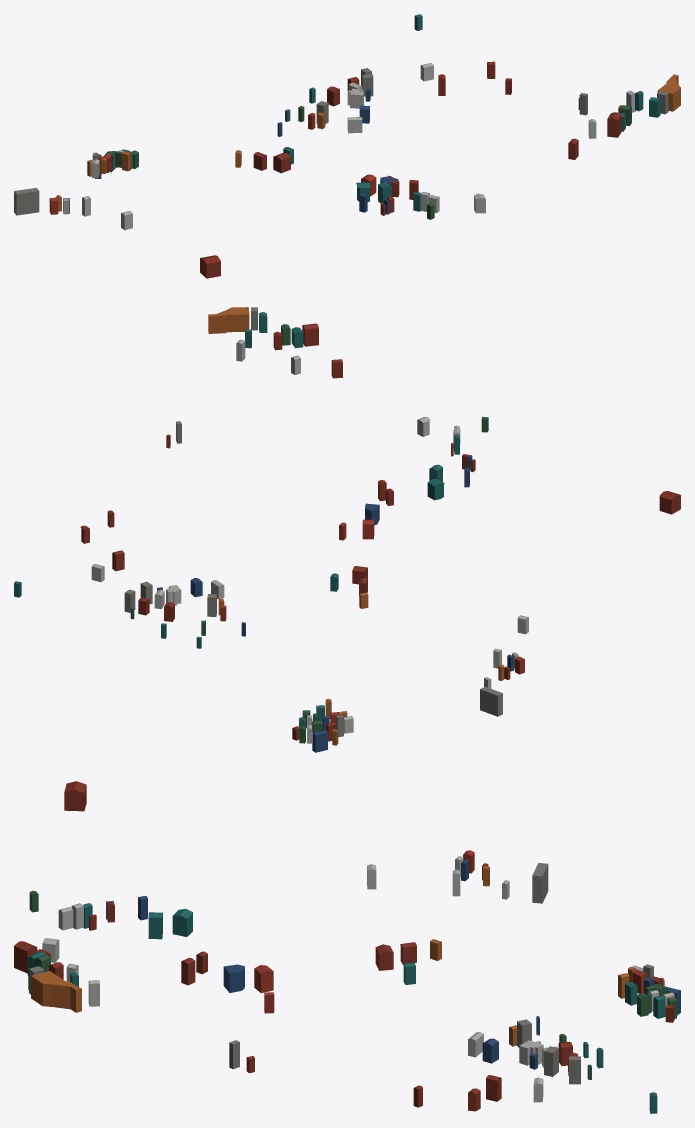
File: near-16-54725-29728.79acef80.glb
The picture shows the model from 3 angles, top to bottom: view 1: azimuth 30°, elevation 25°; view 2: azimuth 150°, elevation 25°; view 3: azimuth 270°, elevation 25°; orthographic projection. The views are drawn at different scales.
Bounding box in the file's own units: 606 × 226 × 572.
